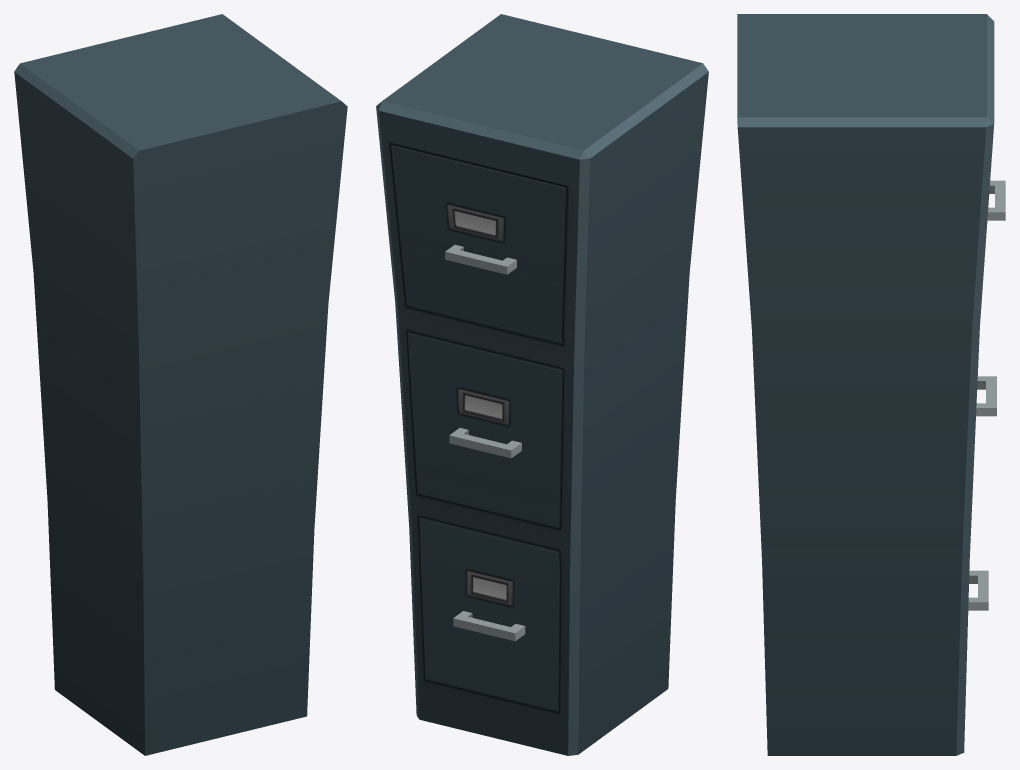
The model's file is SM_Filing_Cabinet.fbx.
3 renders of one model, left to right at view 1: azimuth 30°, elevation 25°; view 2: azimuth 150°, elevation 25°; view 3: azimuth 270°, elevation 25°, orthographic. The views are drawn at different scales.
Parts seen in each view (by area): view 1: filing_Cabinet; view 2: filing_Cabinet; view 3: filing_Cabinet.
Part boxes in pixels (box(x1,y1,x2,y2)): filing_Cabinet: box(14, 14, 347, 755); filing_Cabinet: box(376, 14, 708, 755); filing_Cabinet: box(737, 14, 1005, 755).
Bounding box in the file's own units: 77.83 × 215 × 80.76.
Materials: 1 (1 with a texture image).
